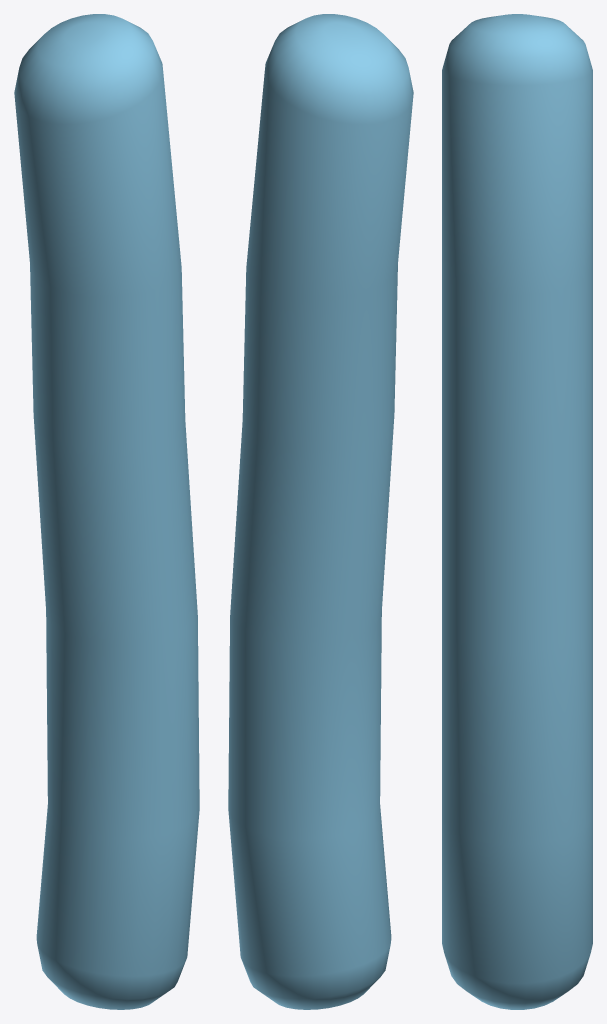
Rendered from cake_dec.fbx.
3 views of the same model, side by side, from view 1: azimuth 30°, elevation 25°; view 2: azimuth 150°, elevation 25°; view 3: azimuth 270°, elevation 25° (orthographic).
Visible parts, largest first — view 1: cake_dec; view 2: cake_dec; view 3: cake_dec.
Boxes of the visible parts, x1=… form: cake_dec: x1=14, y1=14, x2=199, y2=1009; cake_dec: x1=228, y1=14, x2=413, y2=1009; cake_dec: x1=442, y1=14, x2=592, y2=1009.
Size of the model in its own units: 0.9125 by 5.19 by 0.7328.
